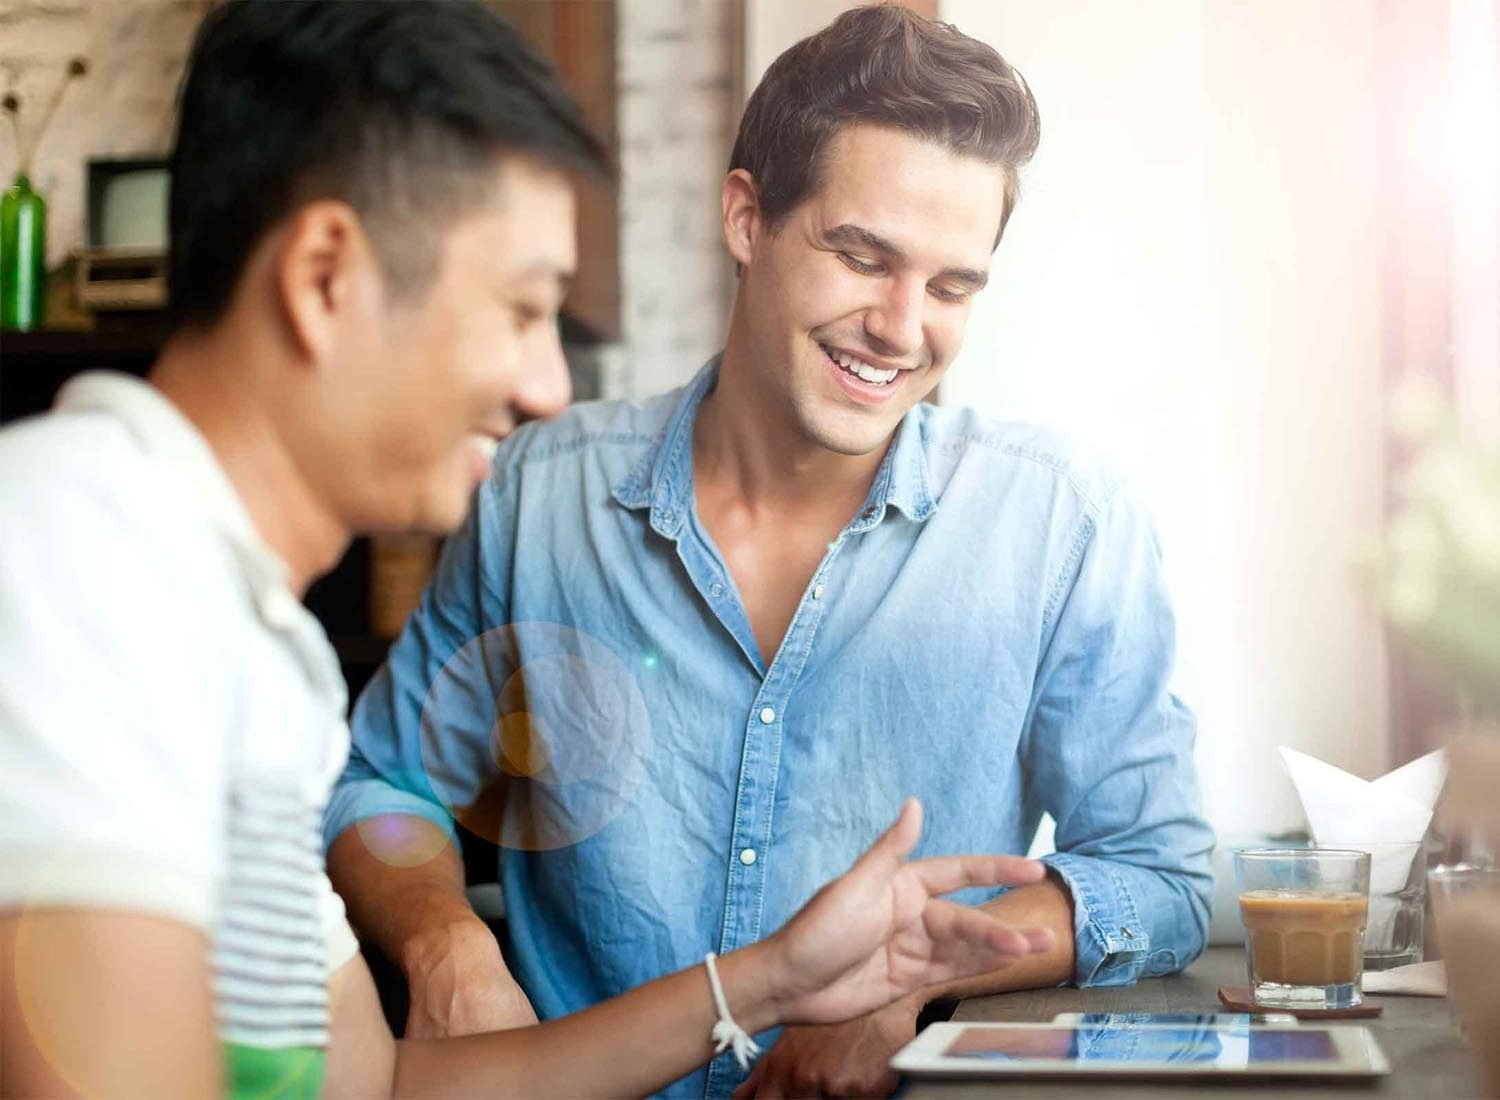without_mask: (338, 132, 567, 520), (802, 147, 980, 448)
